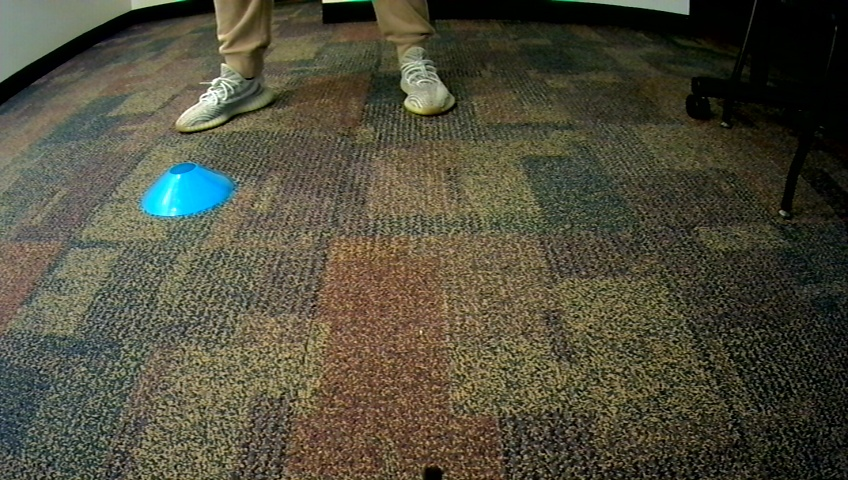cone: (138, 160, 236, 219)
